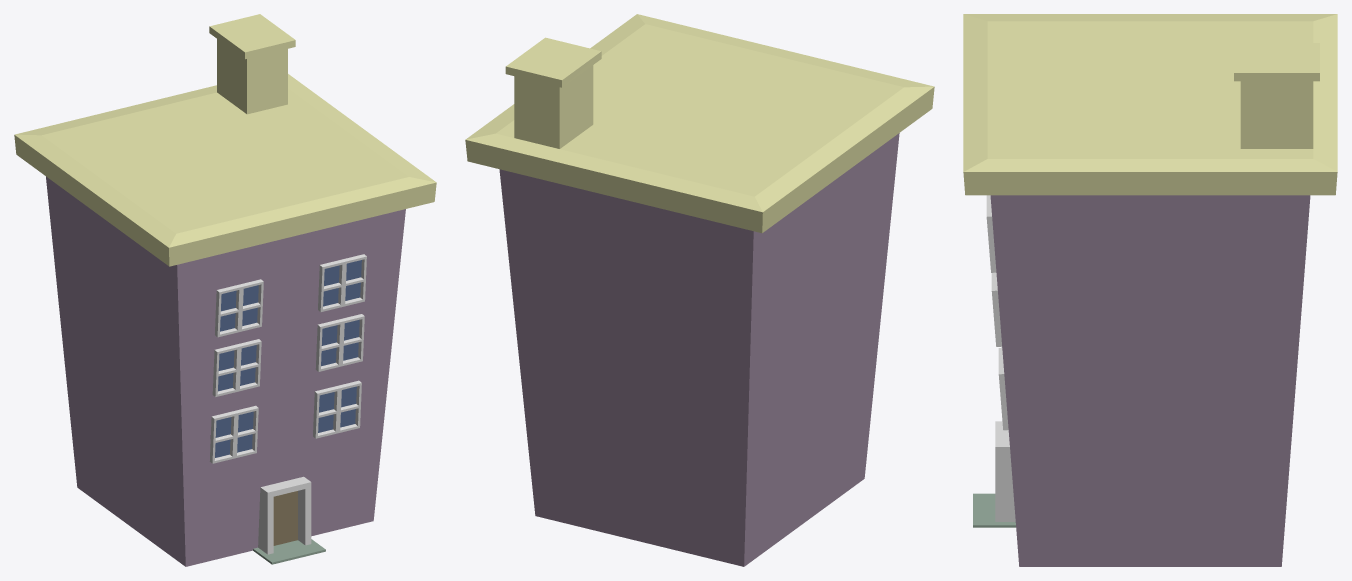
The model's file is Building 004.fbx.
The picture shows the model from 3 angles, left to right: view 1: azimuth 30°, elevation 25°; view 2: azimuth 150°, elevation 25°; view 3: azimuth 270°, elevation 25°; orthographic projection. The views are drawn at different scales.
Parts seen in each view (by area): view 1: polySurface1, polySurface2, polySurface3, polySurface7, polySurface4, polySurface5, polySurface8, polySurface6, polySurface9; view 2: polySurface1; view 3: polySurface1, polySurface2, polySurface9, polySurface7, polySurface5.
Part boxes in pixels (x1,y1,x2,y2): polySurface1: (14,14,436,566); polySurface2: (258,476,311,554); polySurface3: (318,254,366,312); polySurface7: (313,380,361,438); polySurface4: (215,279,263,337); polySurface5: (315,314,364,371); polySurface8: (209,405,258,463); polySurface6: (212,339,261,396); polySurface9: (253,539,325,564); polySurface1: (465,14,934,566); polySurface1: (963,14,1337,566); polySurface2: (995,421,1015,521); polySurface9: (973,493,1015,527); polySurface7: (998,348,1008,430); polySurface5: (991,272,1001,346).
Size of the model in its own units: 5.26 by 7.77 by 5.26.
